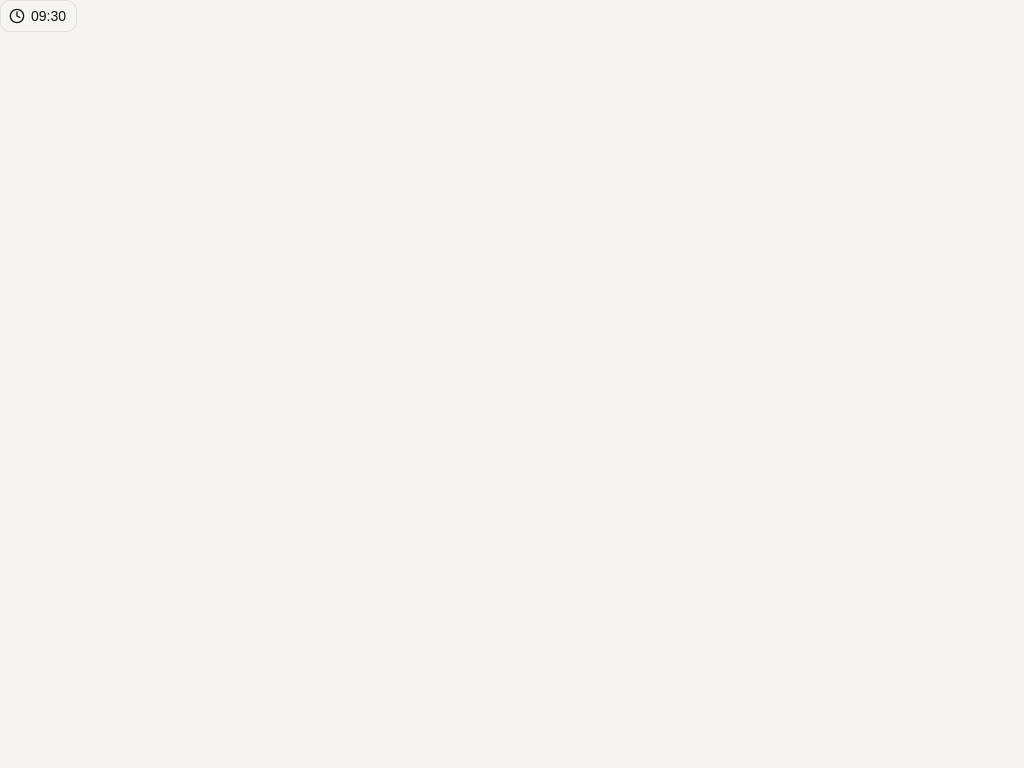
Test: TimePicker › keyboard › closes with Escape without changing the value
Click the button at (38, 16), box x1=0 y1=0 x2=77 y2=32
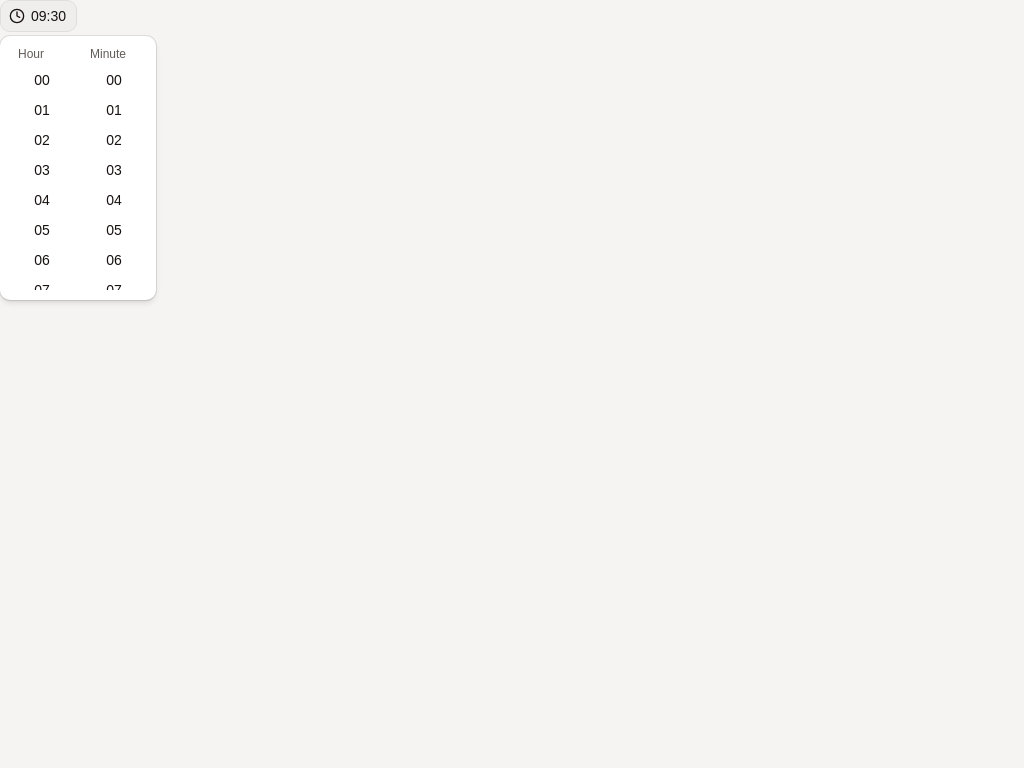
Press Escape
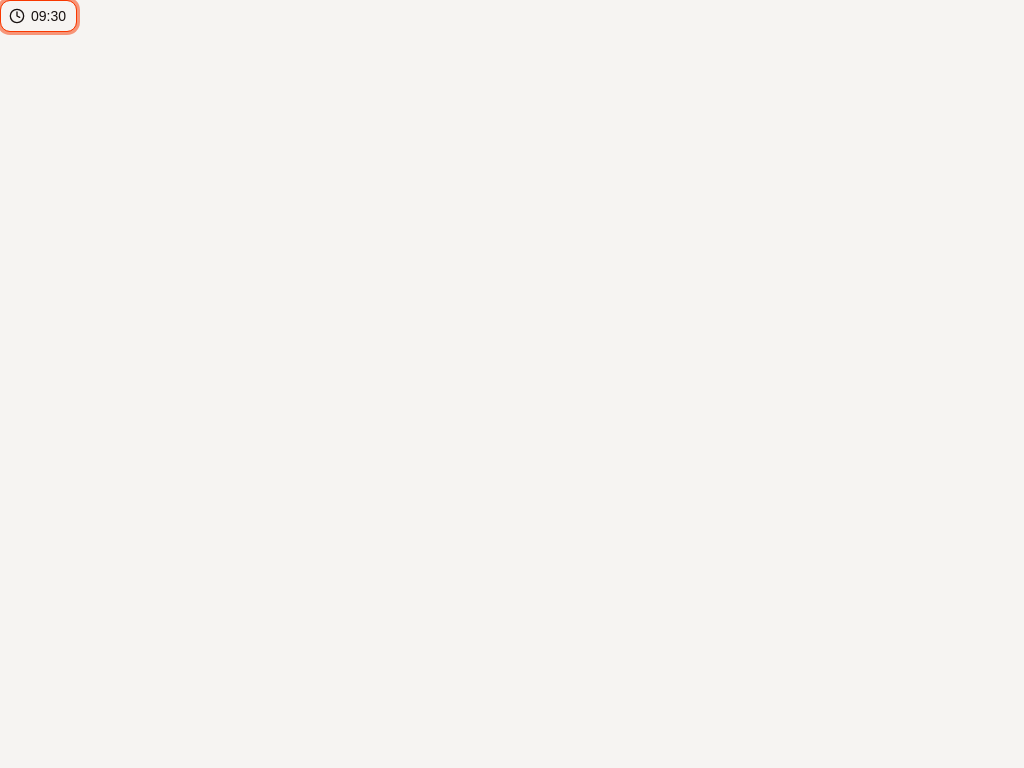
Expected: the button reads "09:30", x1=0 y1=0 x2=77 y2=32
Now the list is gone
